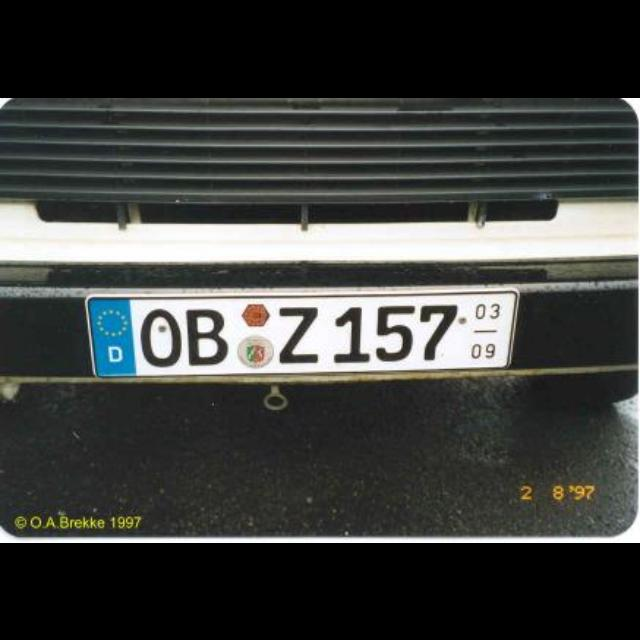d_license_plate: (82, 289, 516, 373)
